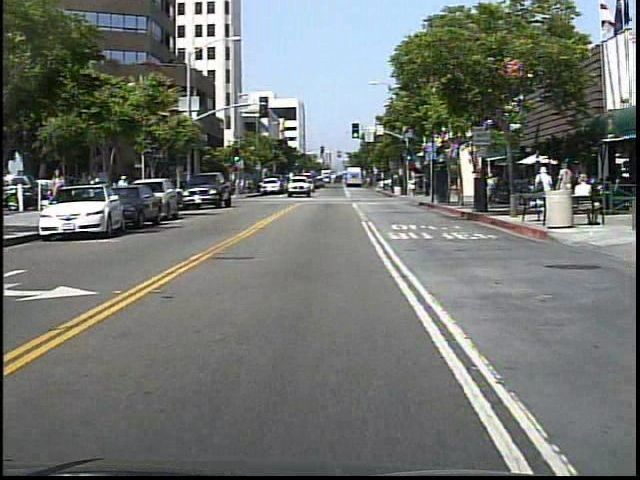person: (47, 165, 69, 220), (234, 175, 247, 201)
